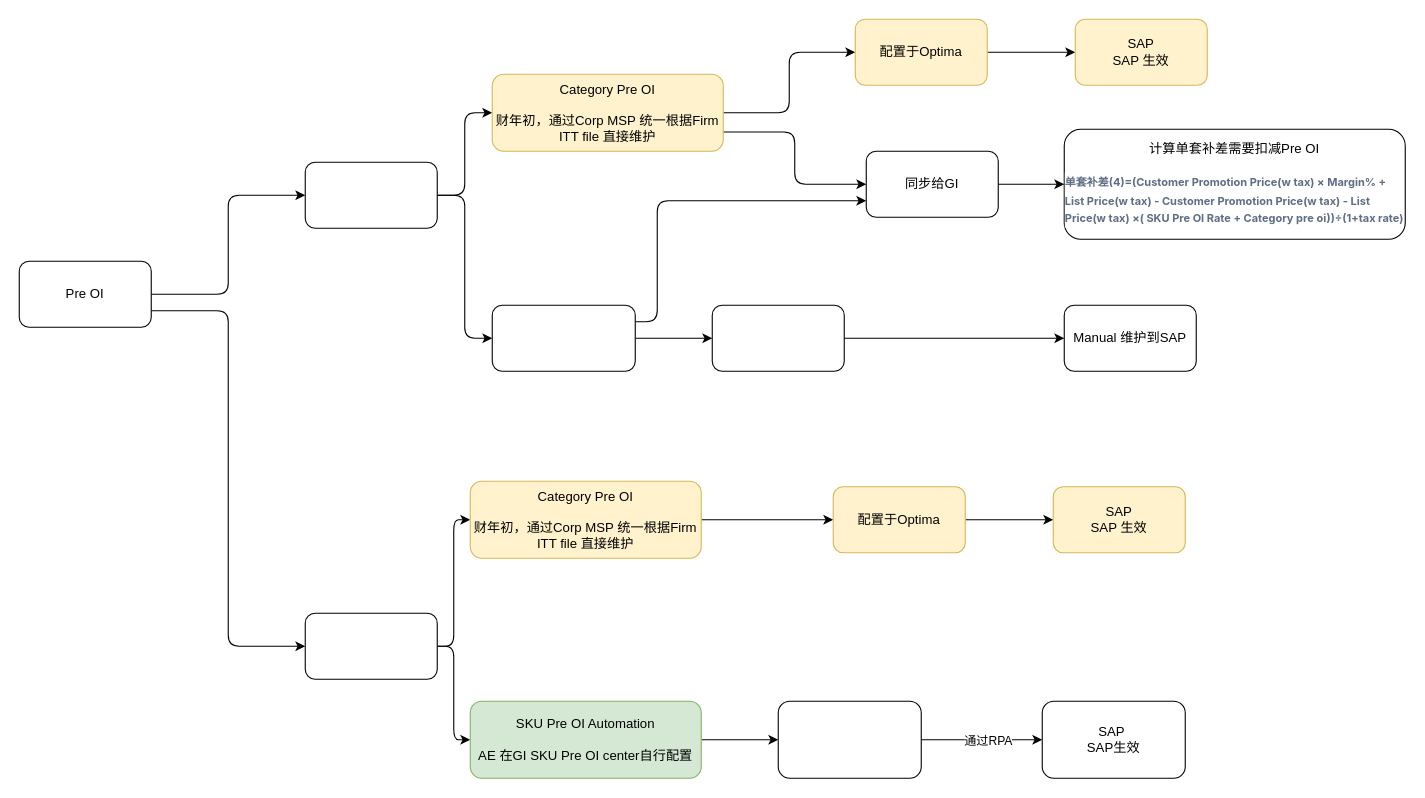
The diagram is 1425 pixels wide and 798 high, and some of its shapes have lost their labels. Here are the shapes that lost their labels. From the top down, the centre of each, then its label:
At (370,194): "ECom + Dcom +DPB".
At (563,337): "SKU Pre OI Customer team → Corp MSP （Only JD)".
At (777,337): "Master Data Team Nicholas Cao".
At (370,645): "O&O".
At (849,739): "AE 发送Alignment 并且经过确认".
